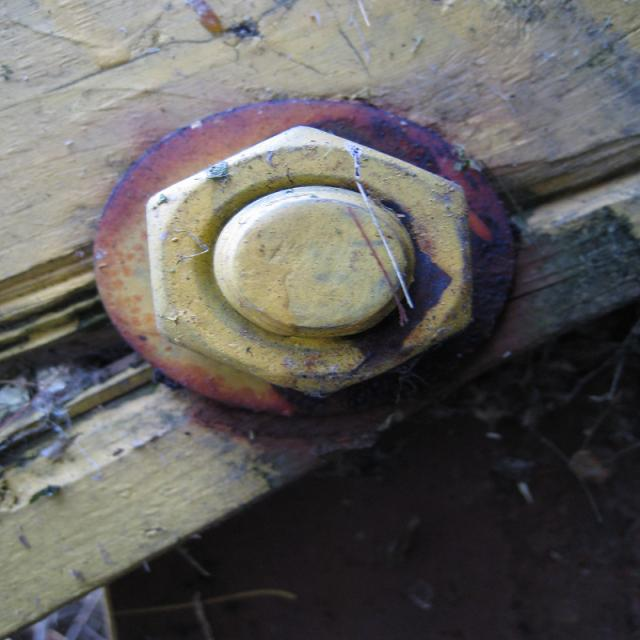bolt nut: (145, 122, 478, 402)
